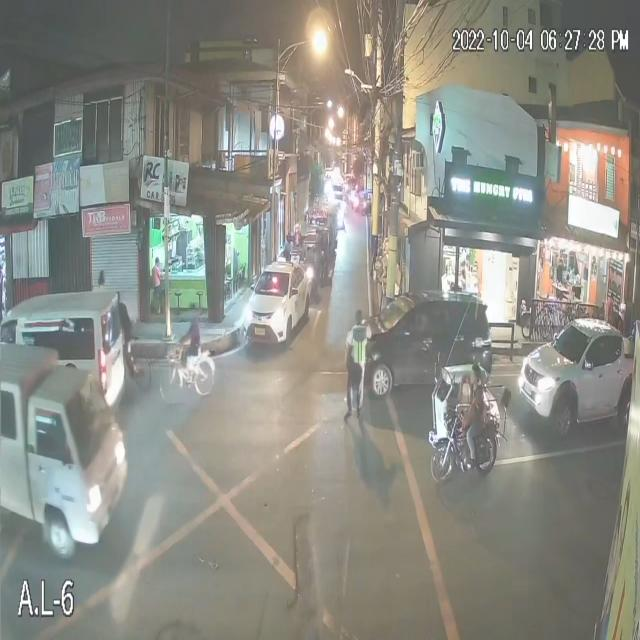Not-Wearing-Helmet: (468, 364, 481, 387)
